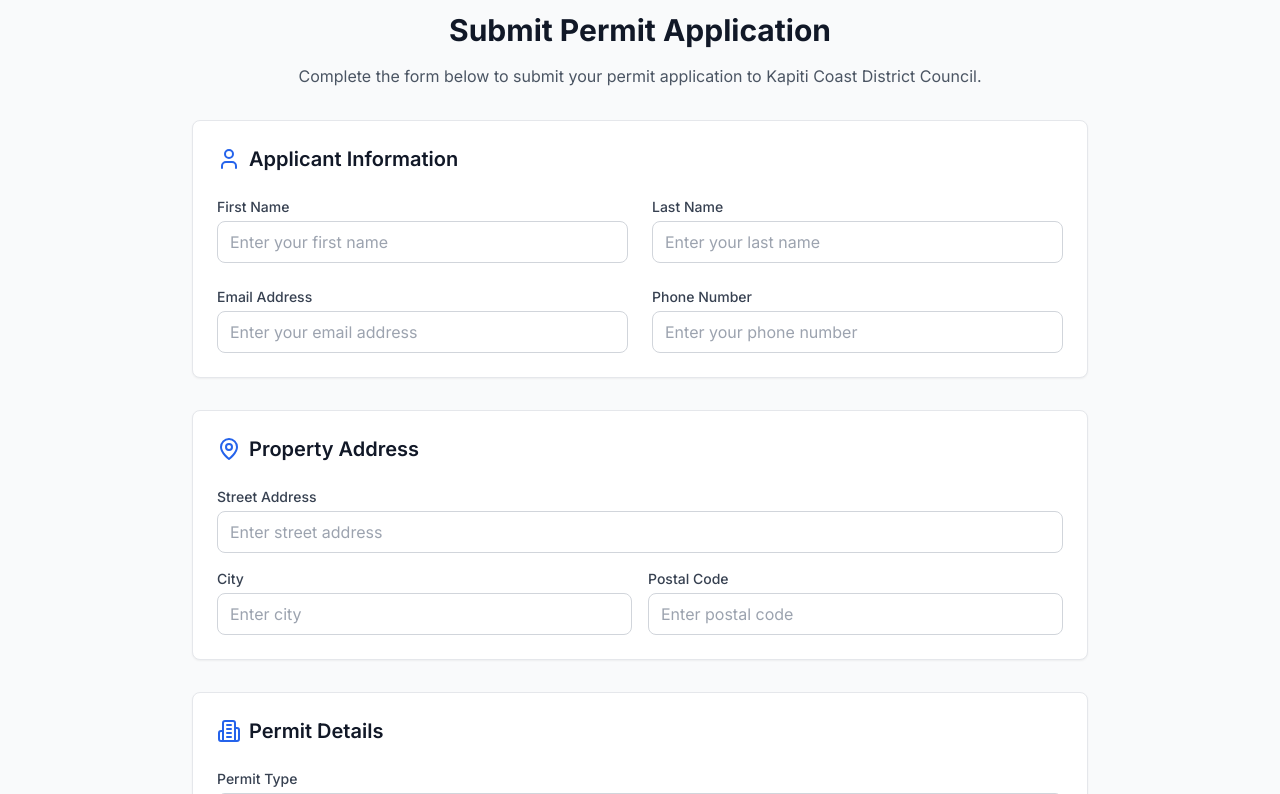
it: PermitSubmissionPage › Form Validation › should validate email format
Type "invalid-email" into the field with placeholder "Enter your email address" at (422, 332), box 217,311 -> 628,353
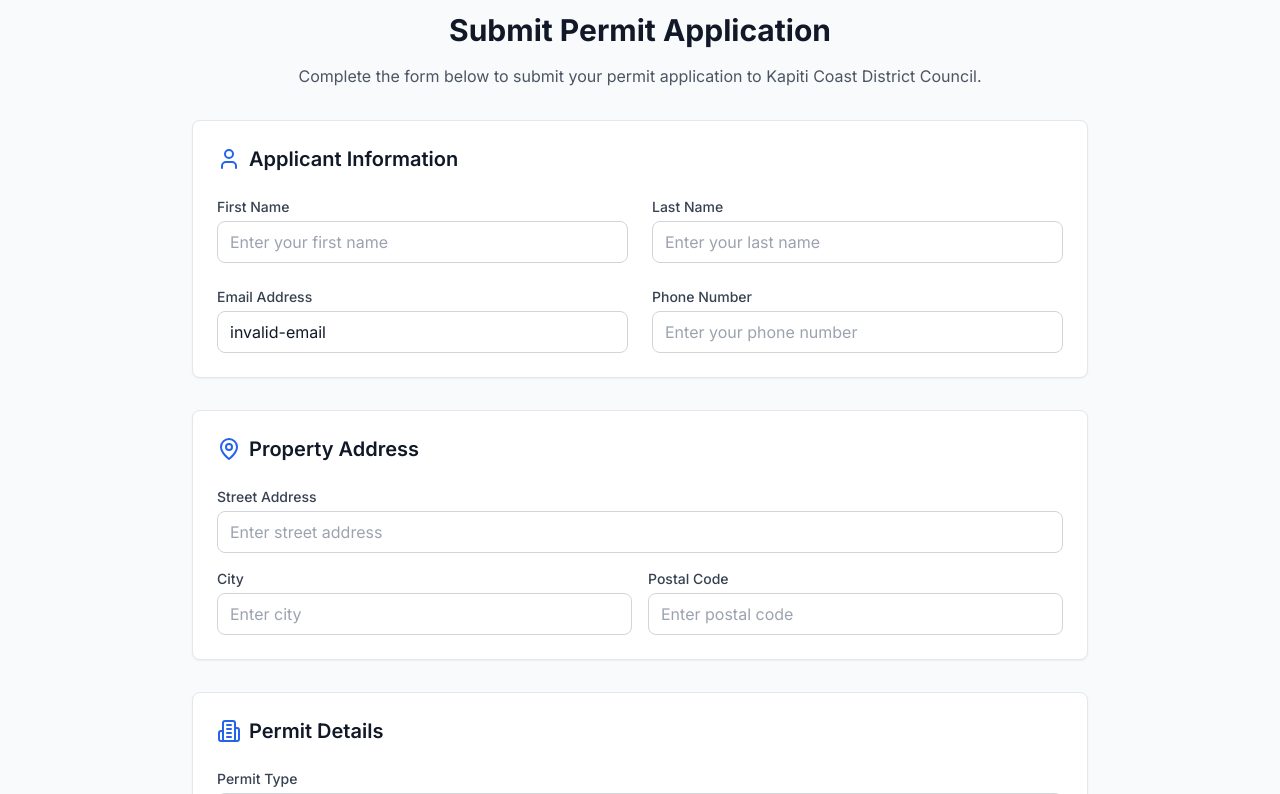
Leave the field with placeholder "Enter your email address", box 217,311 -> 628,353
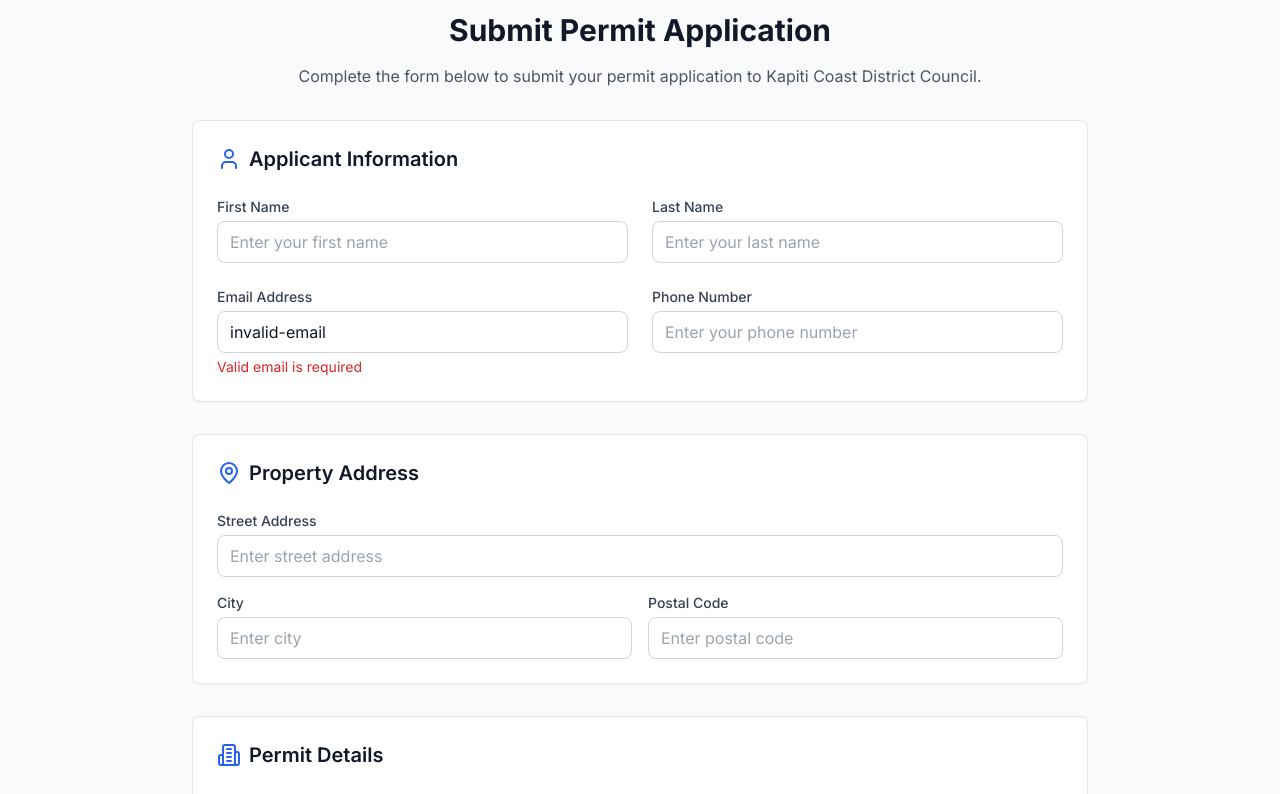
Expected: the text "Valid email is required" is shown, 217,358 -> 362,375
Replace the text in the field with placeholder "Enter your email address" with "valid@email.com" at (422, 332), box 217,311 -> 628,353
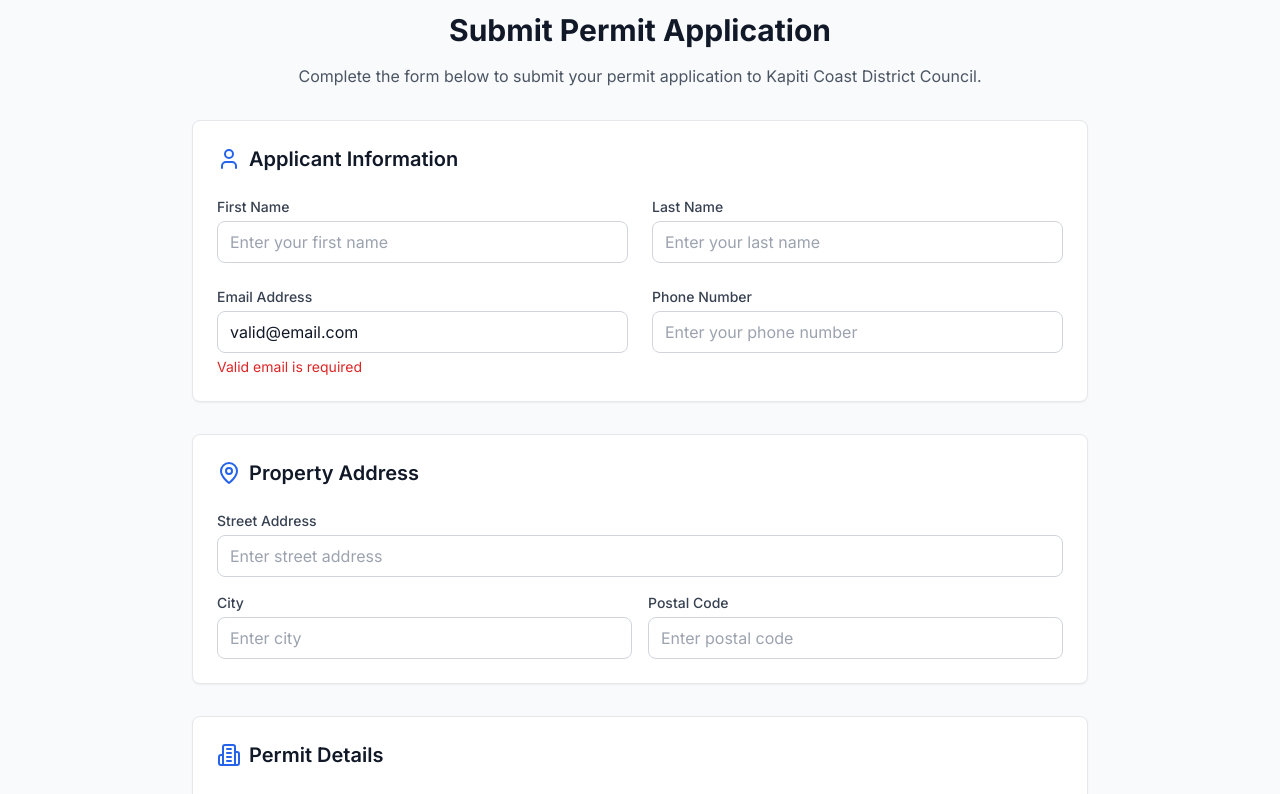
Leave the field with placeholder "Enter your email address", box 217,311 -> 628,353
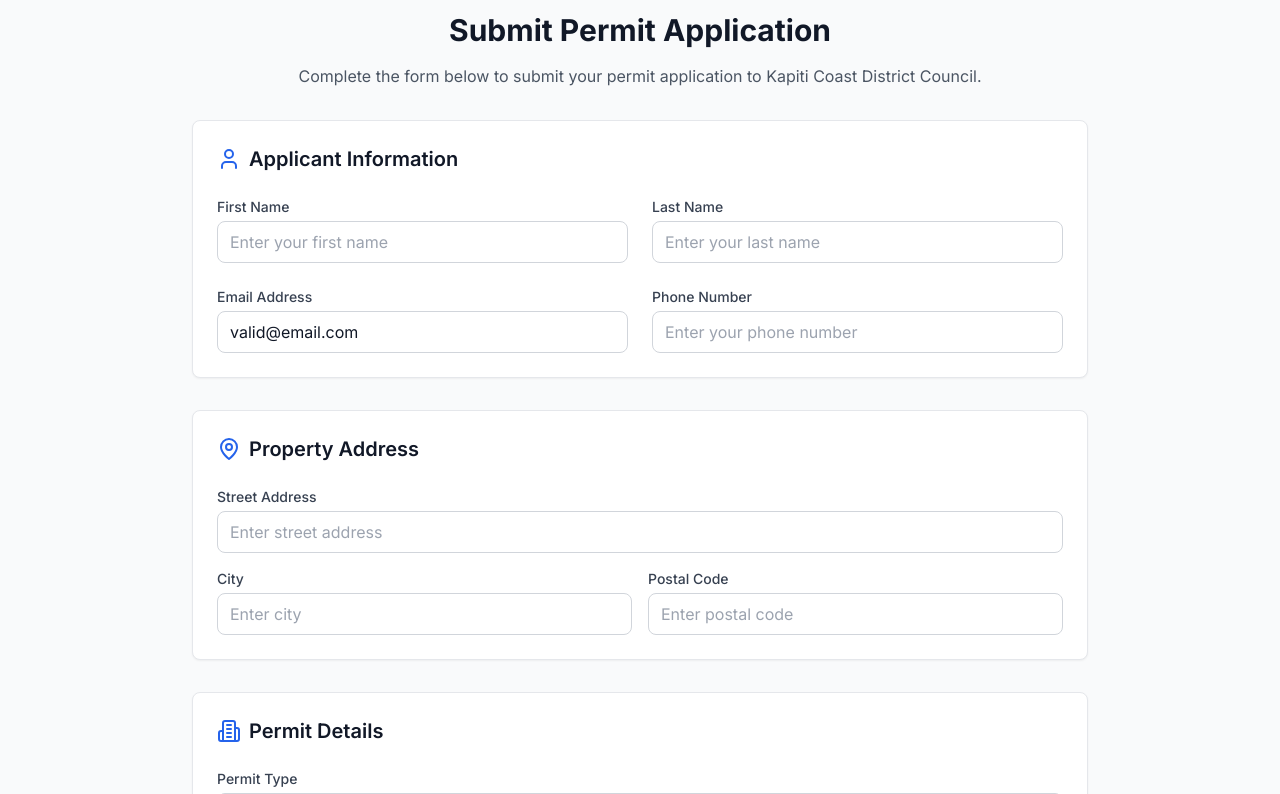
Expected: the text "Valid email is required" is gone
